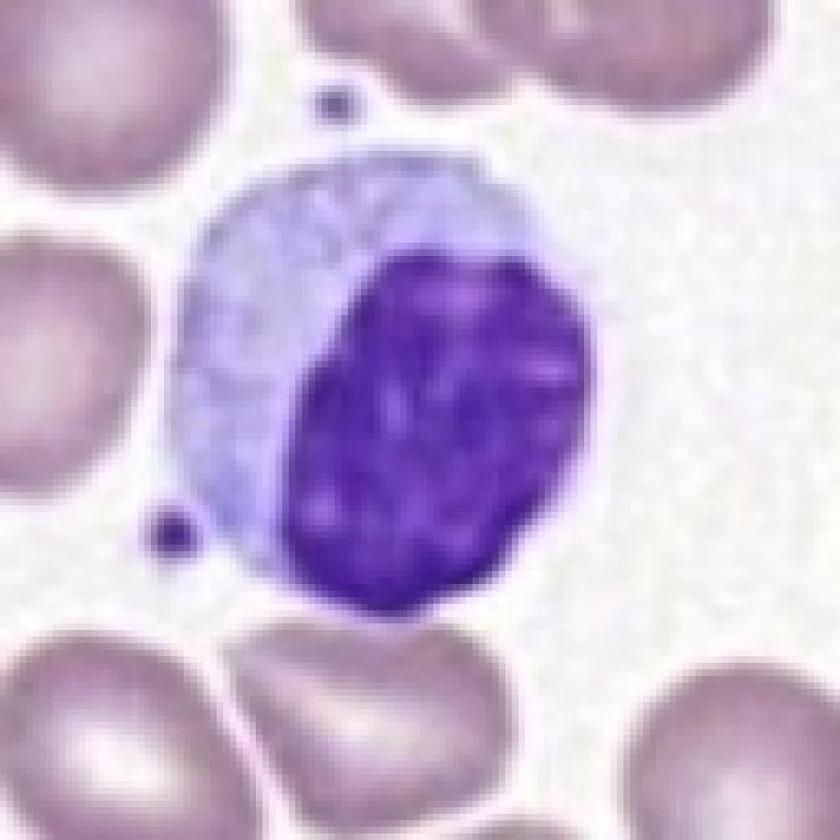lymphocyte: (163, 134, 630, 627)
